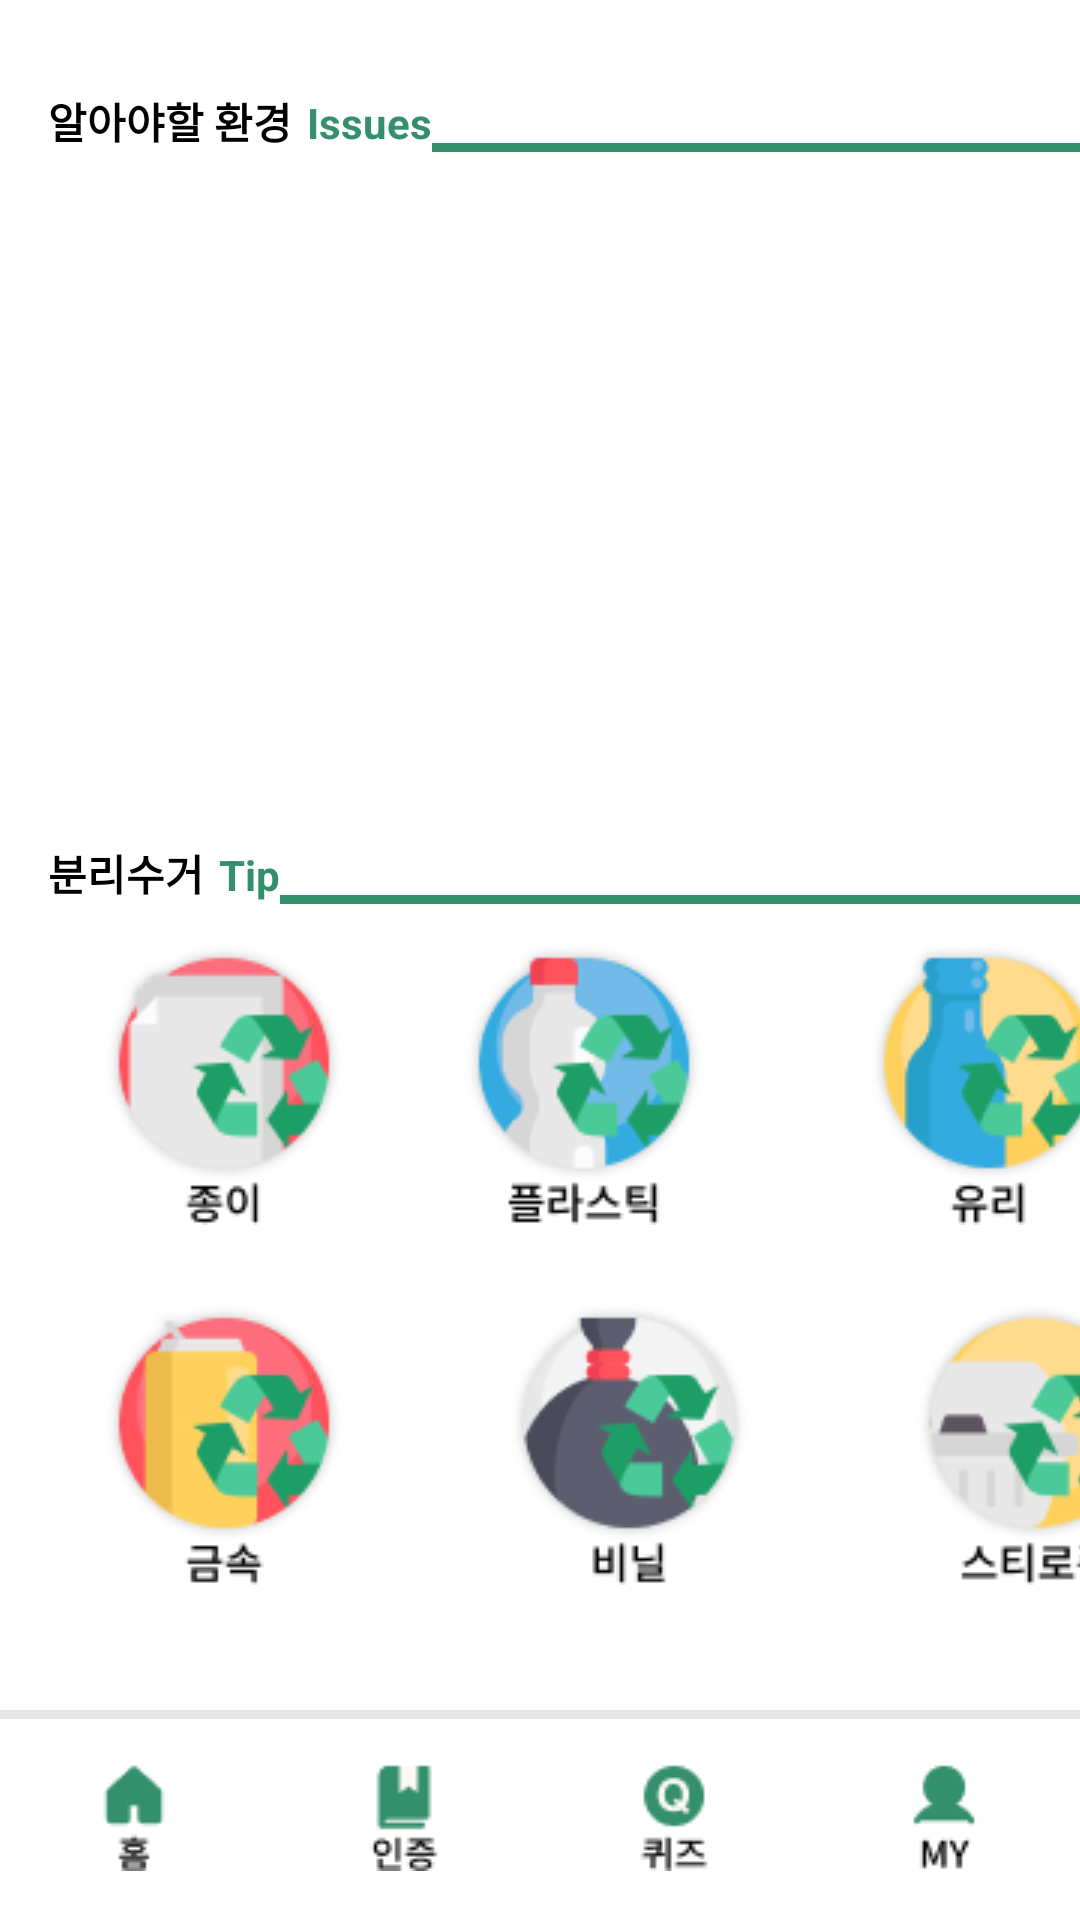

Screen size 1080 × 1920. Icon name, then its box in pixels as detection(x1, y1, x2, y2):
bookmark: detection(372, 1765, 438, 1871)
can: detection(117, 1316, 331, 1585)
user: detection(913, 1765, 975, 1869)
